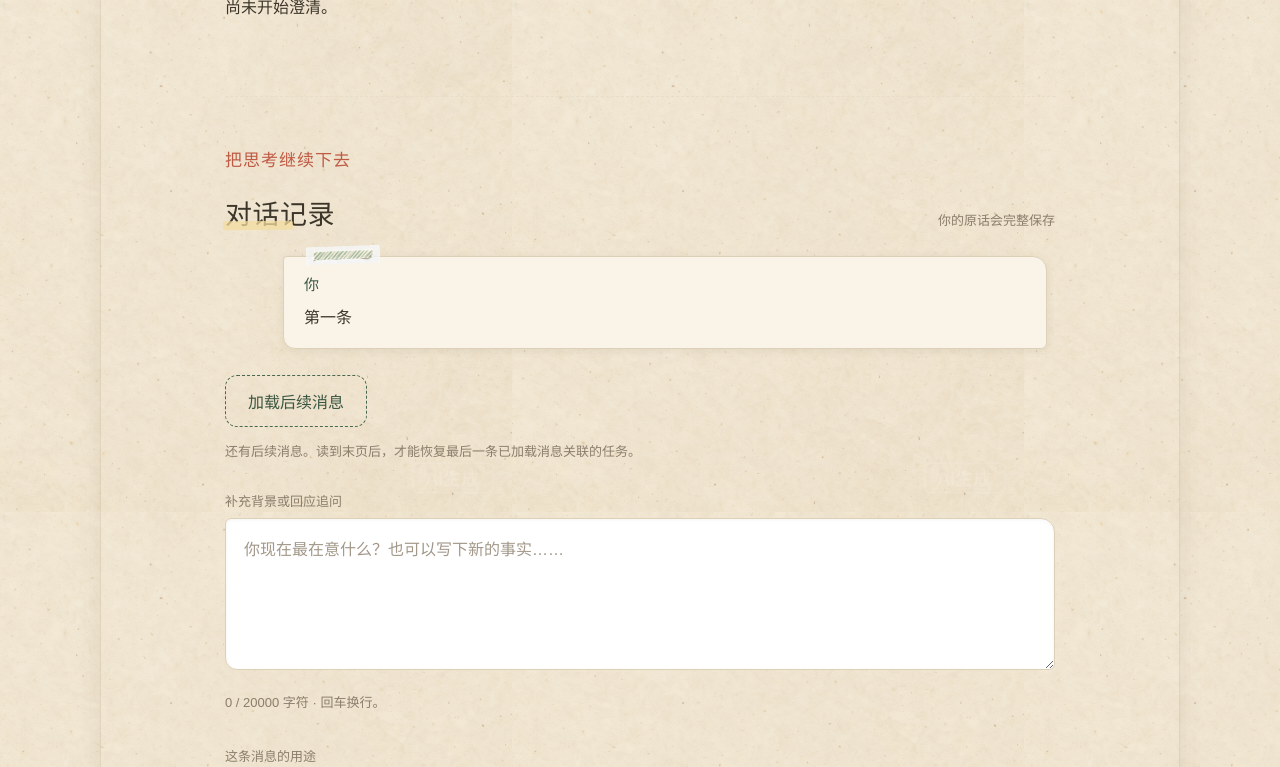
分页未到末页不恢复旧任务，读完才显示真实关联且保持消息不重复
(page scrolled)
Expected: the text "第一条" is shown, [304,310,352,326]
Click the button "加载后续消息": (296, 401) [225,375,367,427]
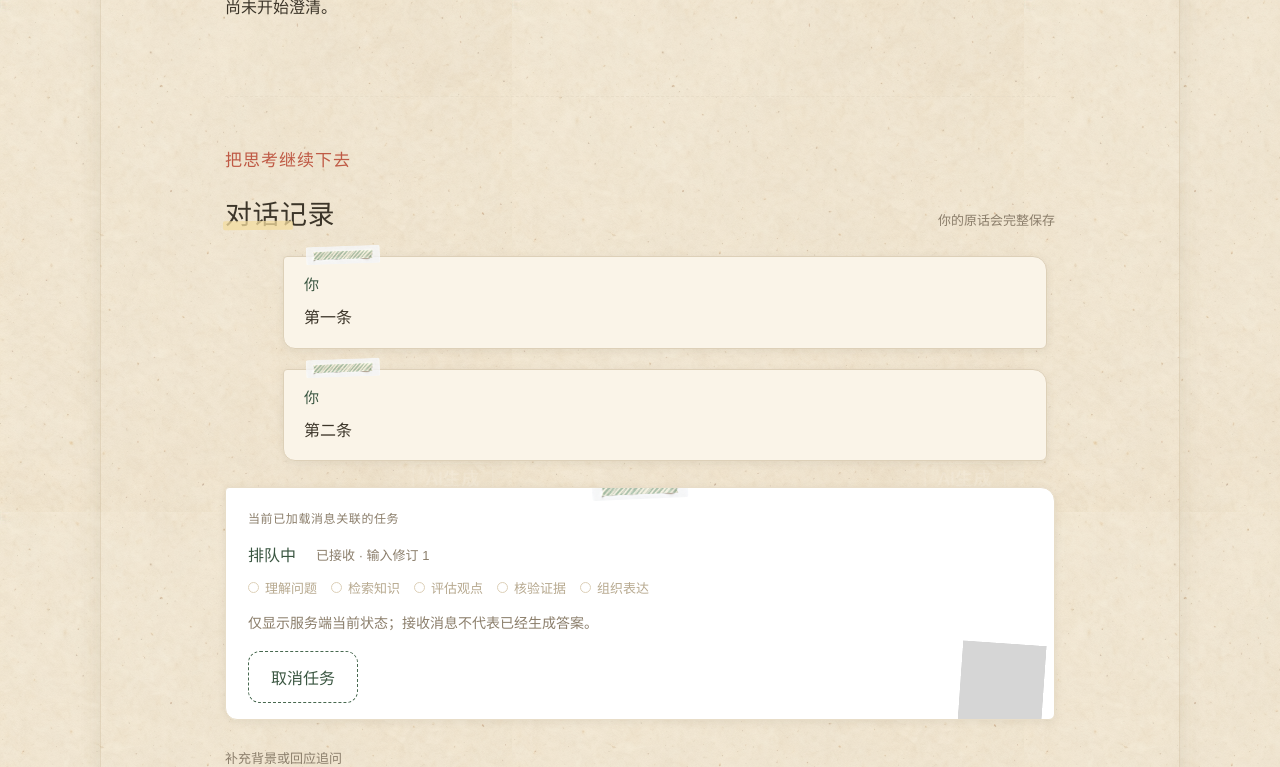
Result: the text "排队中" is shown at [248,542,296,566]
Result: the text "第一条" is shown once at [304,310,352,326]
Result: the text "第二条" is shown once at [304,422,352,439]
